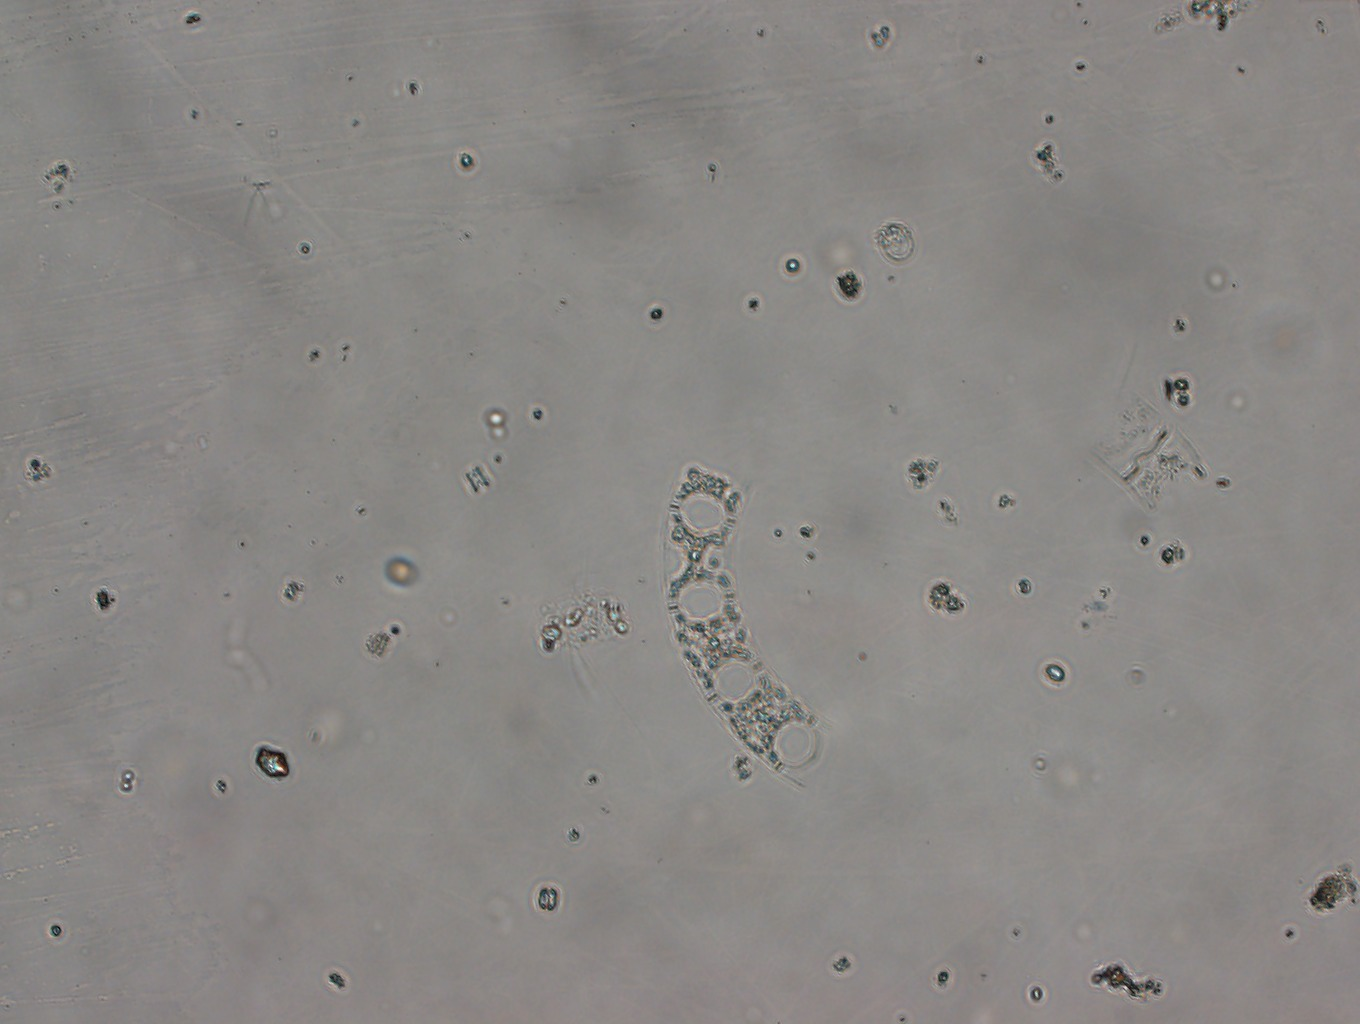eucampia: (661, 459, 827, 790)
